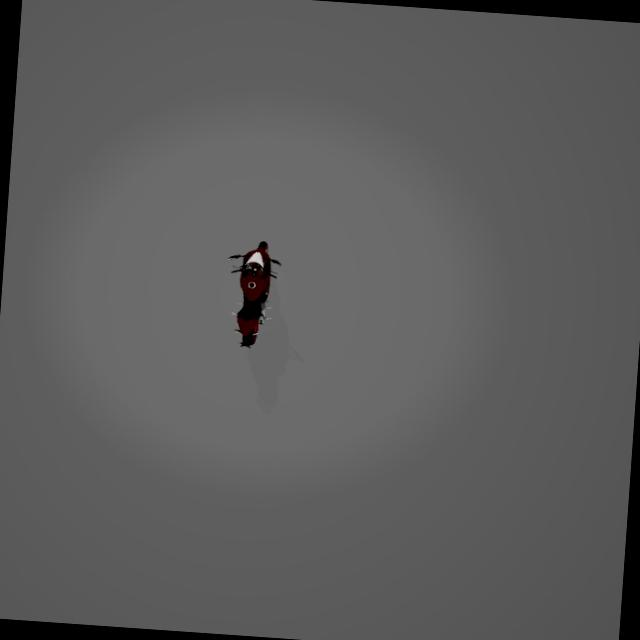Motobike: (214, 236, 292, 350)
